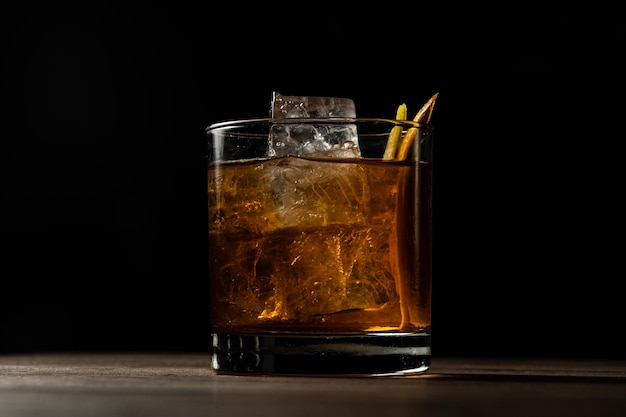alcohol: (197, 104, 443, 382)
